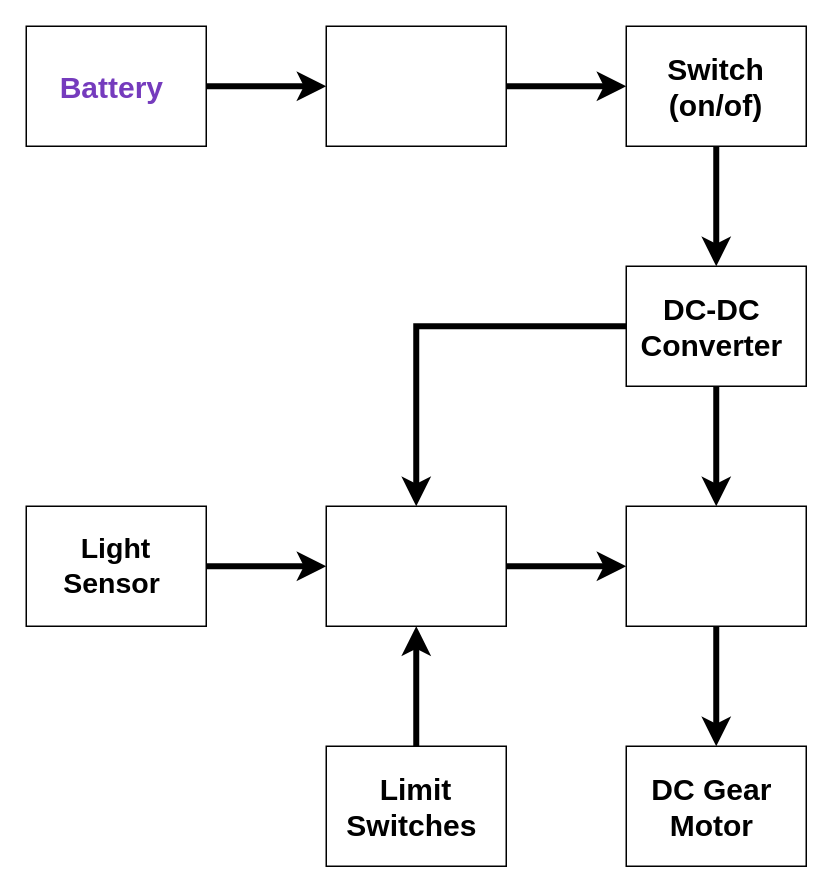
This 833x893 diagram has some shape labels left out. The shapes that lost their labels are listed below. From the top down, each one's centre as x and y in pixels, then its label:
At point 415,85: "Fuse".
At point 415,565: "Controller".
At point 715,565: "H-Bridge Driver".
